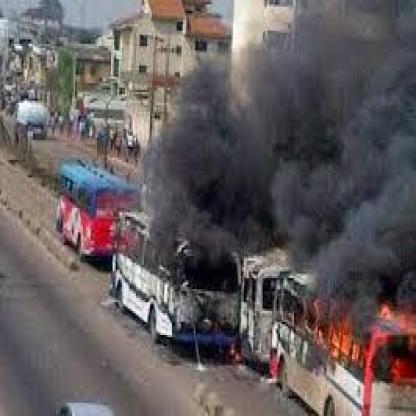fire: (296, 269, 413, 379)
smoke: (124, 2, 413, 293)
